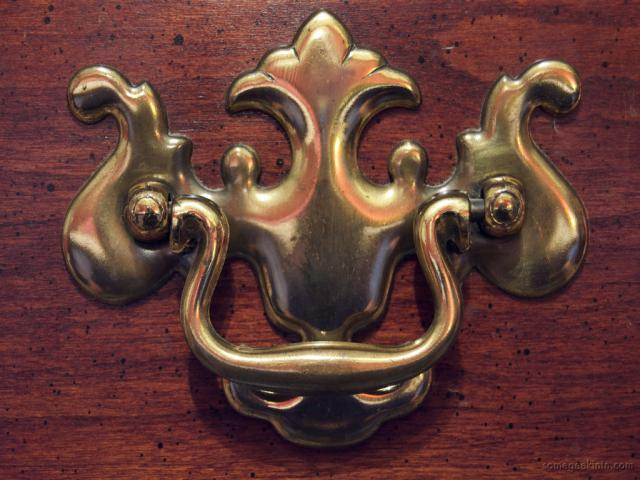Door-handle: (60, 6, 590, 451)
